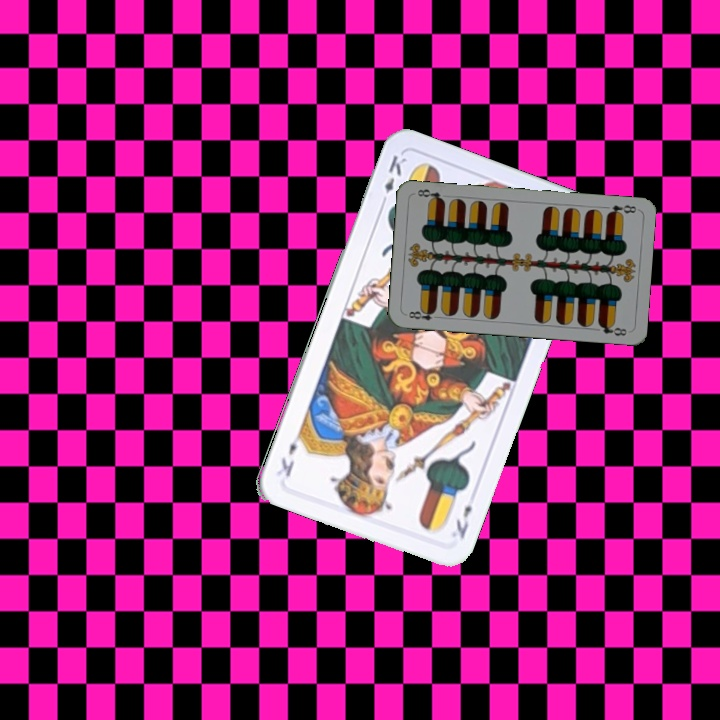E8: (402, 305, 443, 323), (603, 201, 639, 219)
EK: (376, 151, 409, 209), (452, 501, 475, 542)
